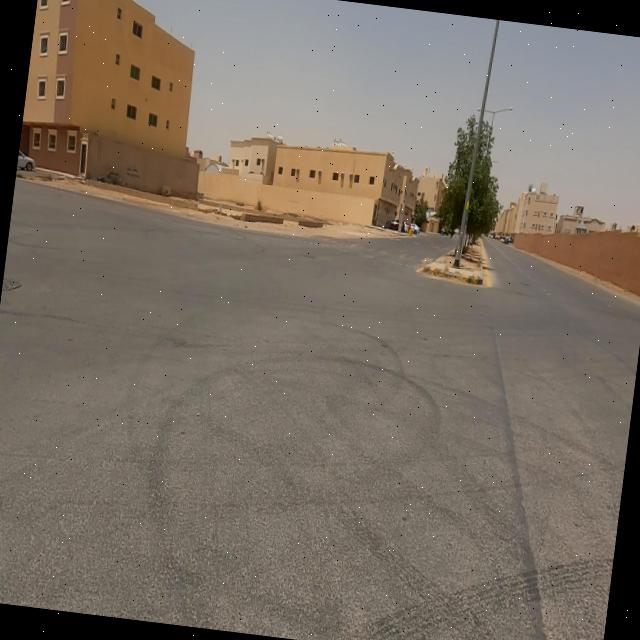Graffiti: (126, 164, 142, 183)
